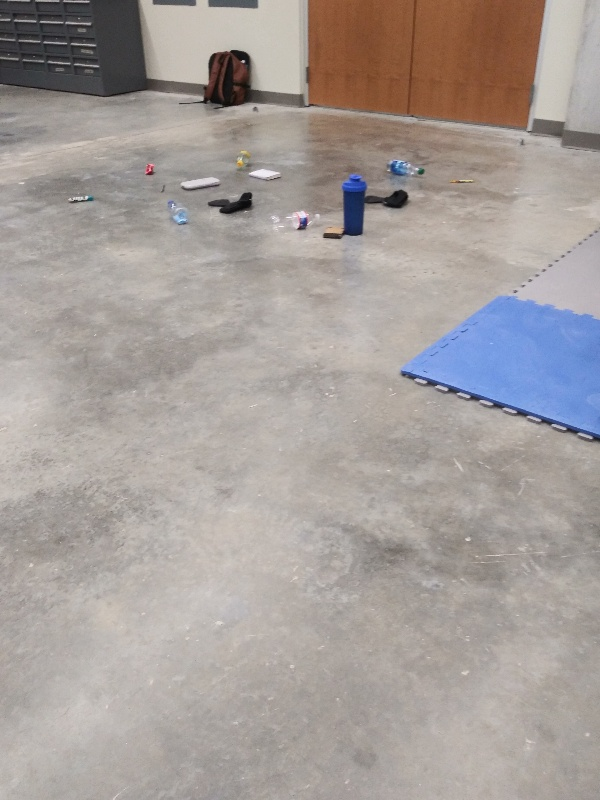bottle: (266, 205, 325, 235), (382, 153, 430, 180), (163, 194, 192, 229), (231, 147, 255, 174)
